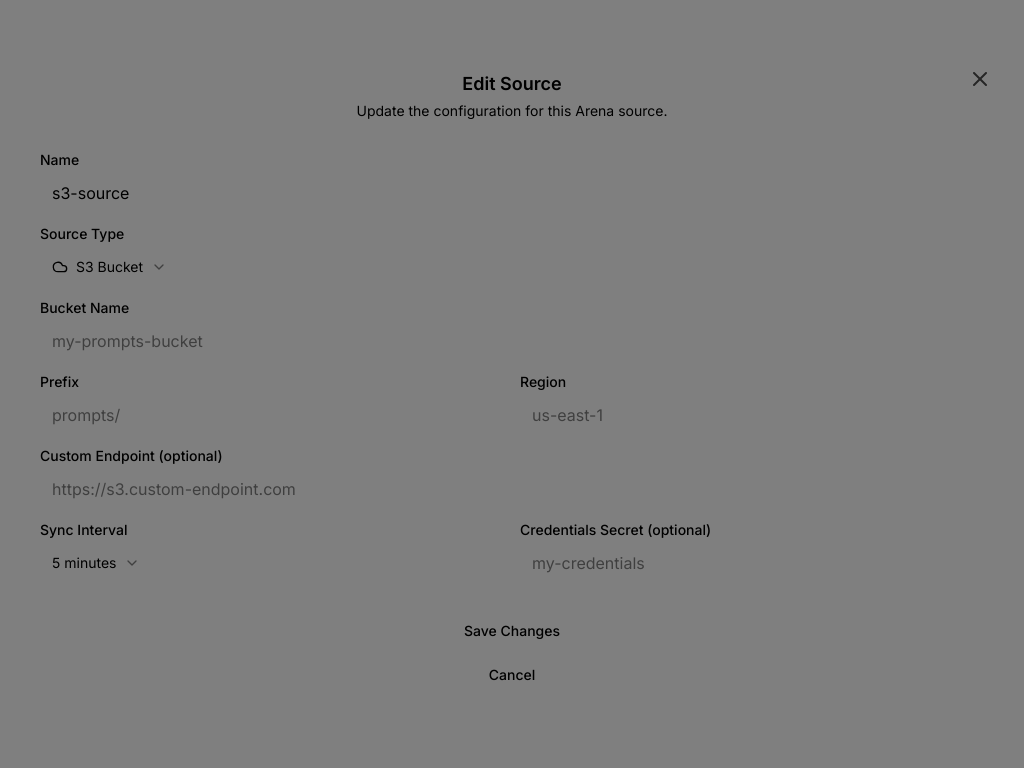
it: SourceDialog - Validation Errors › shows validation error when S3 bucket is empty
Click the button "Save Changes": (512, 631) [40,613,984,649]
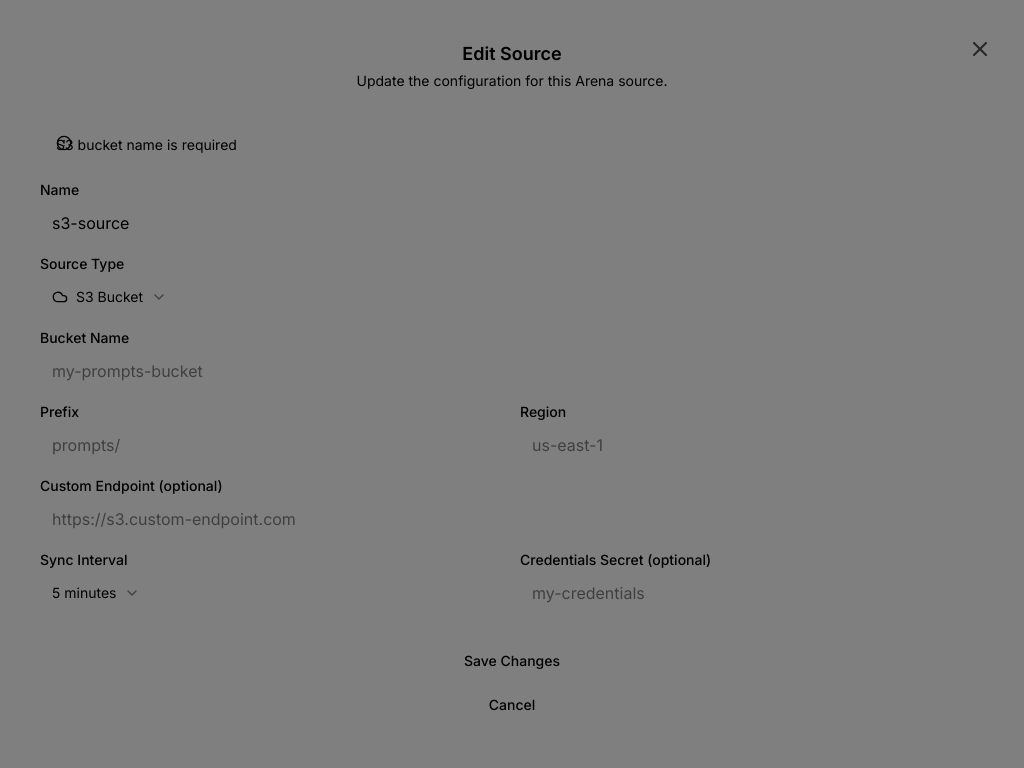
Expected: the text "S3 bucket name is required" is shown, [56,136,237,153]
